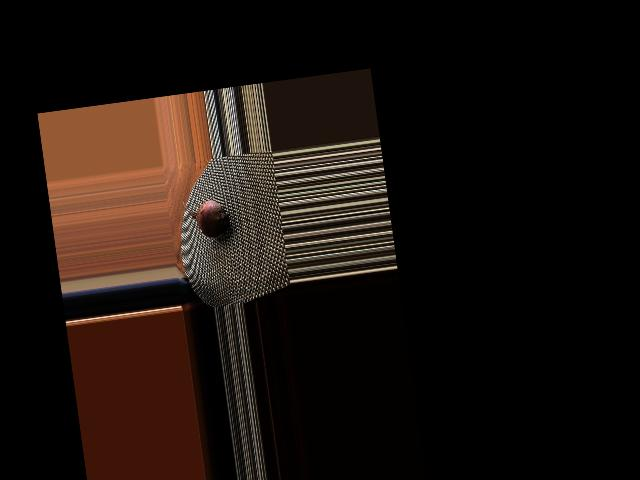beet: (182, 191, 234, 246)
